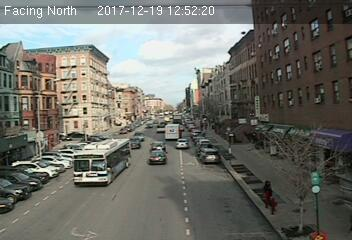bus: (70, 138, 134, 186)
car: (200, 147, 221, 164), (146, 150, 166, 166), (176, 138, 189, 150), (149, 141, 165, 150)
truck: (166, 123, 180, 141)
